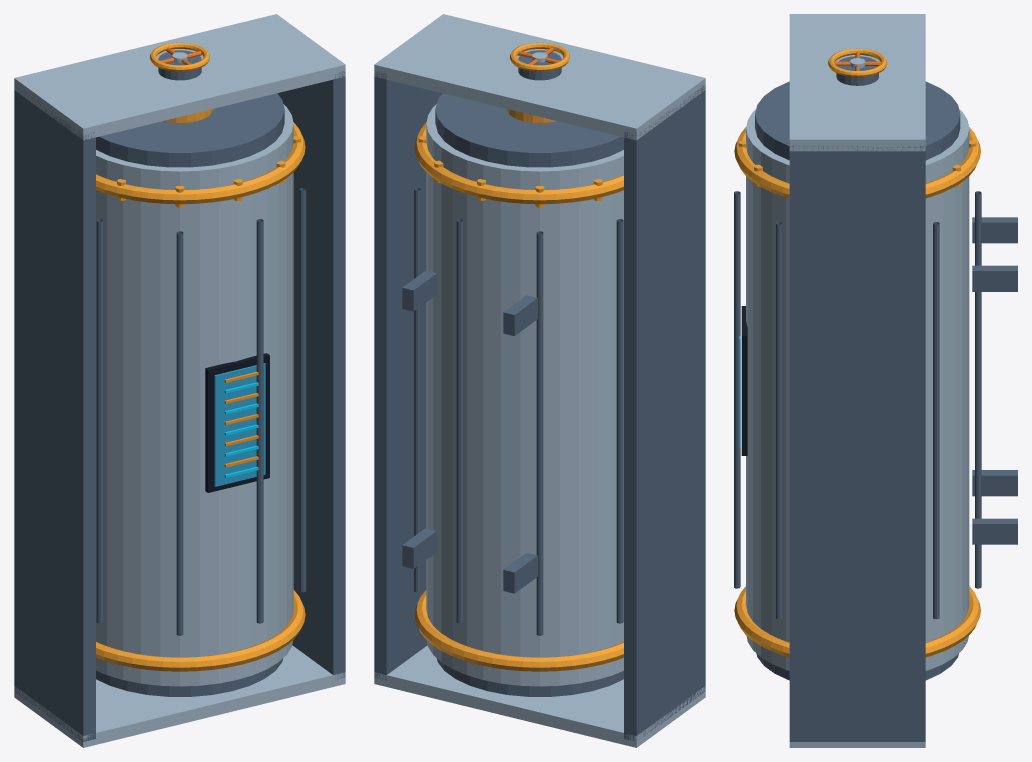
The model's file is 13_L88_DualAdsorberTowerB.fbx.
3 renders of one model, left to right at view 1: azimuth 30°, elevation 25°; view 2: azimuth 150°, elevation 25°; view 3: azimuth 270°, elevation 25°, orthographic.
Visible parts, largest first — view 1: L87_DualAdsorberTowerB_Part_0000, L87_DualAdsorberTowerB_Part_0001, L87_DualAdsorberTowerB_Part_0002, L87_DualAdsorberTowerB_Part_0004, L87_DualAdsorberTowerB_Part_0003, L87_DualAdsorberTowerB_Part_0009, L87_DualAdsorberTowerB_Part_0006, L87_DualAdsorberTowerB_Part_0005; view 2: L87_DualAdsorberTowerB_Part_0000, L87_DualAdsorberTowerB_Part_0001, L87_DualAdsorberTowerB_Part_0002, L87_DualAdsorberTowerB_Part_0009; view 3: L87_DualAdsorberTowerB_Part_0001, L87_DualAdsorberTowerB_Part_0000, L87_DualAdsorberTowerB_Part_0002, L87_DualAdsorberTowerB_Part_0003, L87_DualAdsorberTowerB_Part_0009.
Boxes of the visible parts, x1=… form: L87_DualAdsorberTowerB_Part_0000: x1=14, y1=14, x2=345, y2=747; L87_DualAdsorberTowerB_Part_0001: x1=14, y1=50, x2=345, y2=741; L87_DualAdsorberTowerB_Part_0002: x1=96, y1=109, x2=305, y2=671; L87_DualAdsorberTowerB_Part_0004: x1=214, y1=363, x2=265, y2=486; L87_DualAdsorberTowerB_Part_0003: x1=205, y1=353, x2=269, y2=492; L87_DualAdsorberTowerB_Part_0009: x1=150, y1=42, x2=209, y2=71; L87_DualAdsorberTowerB_Part_0006: x1=224, y1=372, x2=258, y2=467; L87_DualAdsorberTowerB_Part_0005: x1=224, y1=382, x2=258, y2=477; L87_DualAdsorberTowerB_Part_0000: x1=374, y1=14, x2=705, y2=747; L87_DualAdsorberTowerB_Part_0001: x1=374, y1=50, x2=705, y2=740; L87_DualAdsorberTowerB_Part_0002: x1=414, y1=109, x2=623, y2=671; L87_DualAdsorberTowerB_Part_0009: x1=510, y1=42, x2=569, y2=71; L87_DualAdsorberTowerB_Part_0001: x1=734, y1=56, x2=1017, y2=741; L87_DualAdsorberTowerB_Part_0000: x1=746, y1=14, x2=969, y2=747; L87_DualAdsorberTowerB_Part_0002: x1=734, y1=127, x2=980, y2=657; L87_DualAdsorberTowerB_Part_0003: x1=741, y1=306, x2=747, y2=455; L87_DualAdsorberTowerB_Part_0009: x1=828, y1=48, x2=887, y2=77.
Size of the model in its own units: 208 by 482 by 198.
